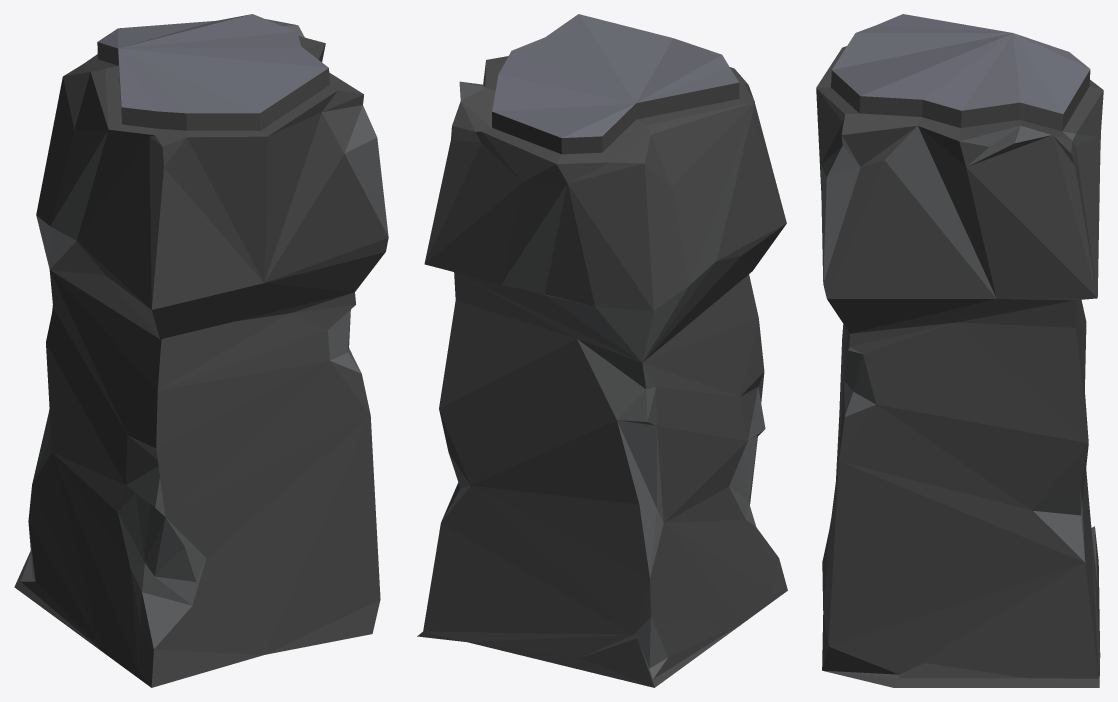
File: Altar_02_half.FBX
3 views of the same model, side by side, from view 1: azimuth 30°, elevation 25°; view 2: azimuth 150°, elevation 25°; view 3: azimuth 270°, elevation 25° (orthographic). The views are drawn at different scales.
Visible parts, largest first — view 1: Altar_02_half; view 2: Altar_02_half; view 3: Altar_02_half.
Boxes of the visible parts, x1,y1,x2,y2 form: Altar_02_half: (14, 14, 388, 687); Altar_02_half: (417, 14, 787, 687); Altar_02_half: (816, 14, 1103, 687).
Bounding box in the file's own units: 0.6718 × 1.46 × 0.6688.
